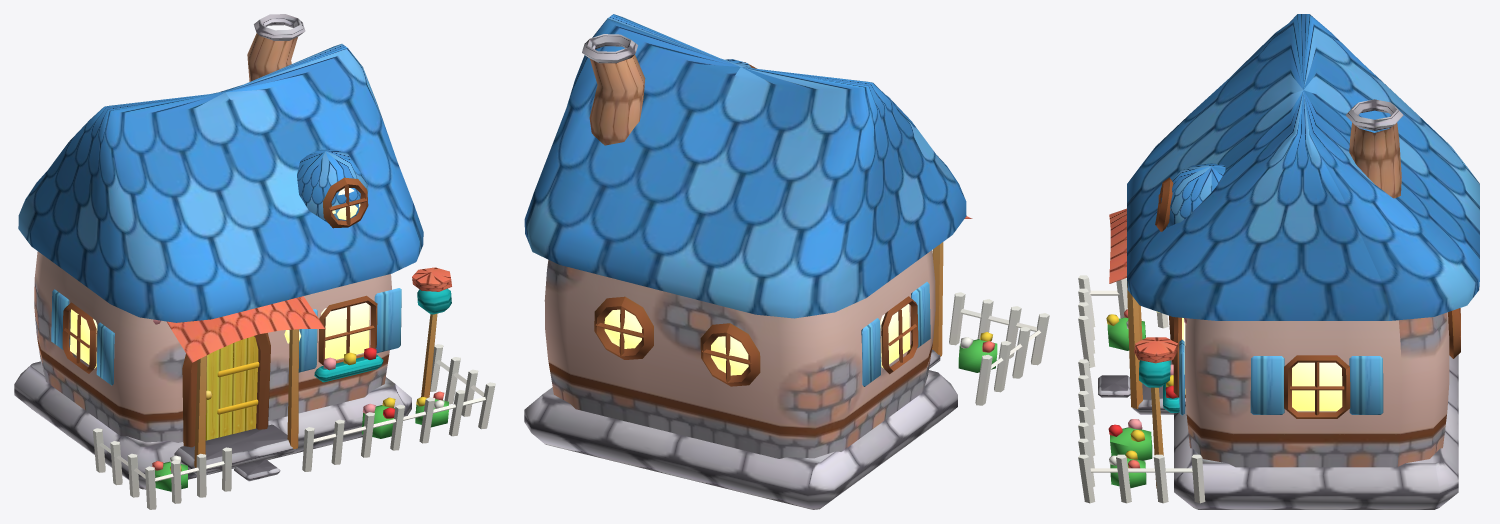
Rendered from cottage.glb.
3 renders of one model, left to right at view 1: azimuth 30°, elevation 25°; view 2: azimuth 150°, elevation 25°; view 3: azimuth 270°, elevation 25°, orthographic. The views are drawn at different scales.
Parts seen in each view (by area): view 1: cottage; view 2: cottage; view 3: cottage.
Boxes of the visible parts, x1,y1,x2,y2 form: cottage: [14, 14, 495, 509]; cottage: [524, 14, 1049, 509]; cottage: [1078, 14, 1479, 509].
Bounding box in the file's own units: 6.75 × 6.54 × 6.3.
Materials: 4 (4 with a texture image).
